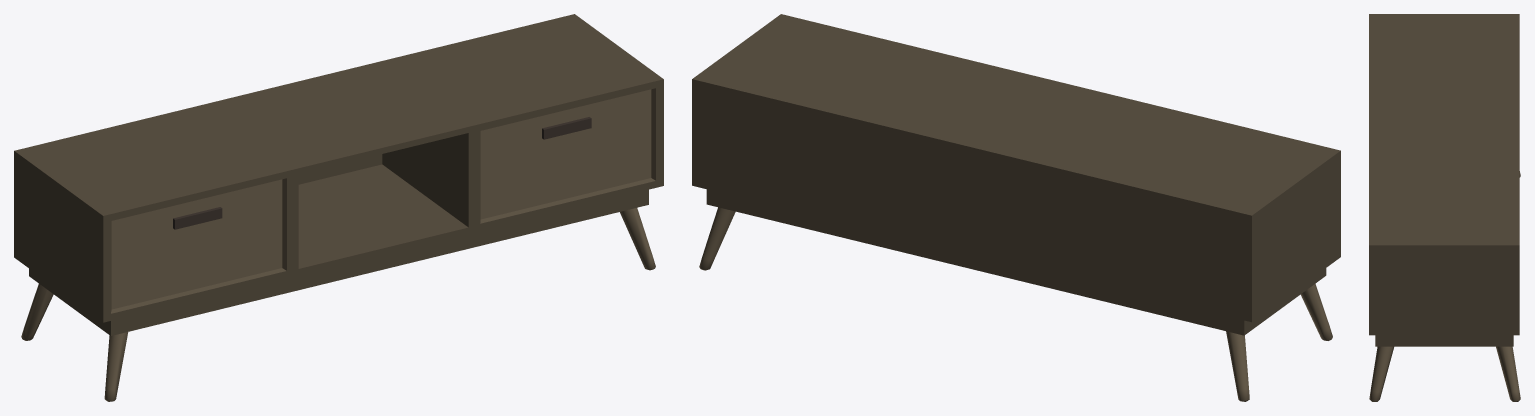
Rendered from quaternius-house-interior-drawer-2.glb.
3 renders of one model, left to right at view 1: azimuth 30°, elevation 25°; view 2: azimuth 150°, elevation 25°; view 3: azimuth 270°, elevation 25°, orthographic. The views are drawn at different scales.
Parts seen in each view (by area): view 1: Drawer_2; view 2: Drawer_2; view 3: Drawer_2.
Boxes of the visible parts, x1,y1,x2,y2 form: Drawer_2: (14, 14, 663, 401); Drawer_2: (692, 14, 1340, 401); Drawer_2: (1369, 14, 1520, 401).
Bounding box in the file's own units: 4.04 × 1.31 × 1.12.
